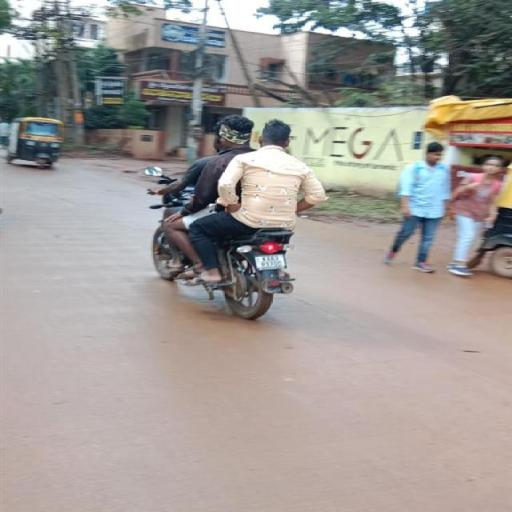tripple riding: (142, 113, 329, 228)
